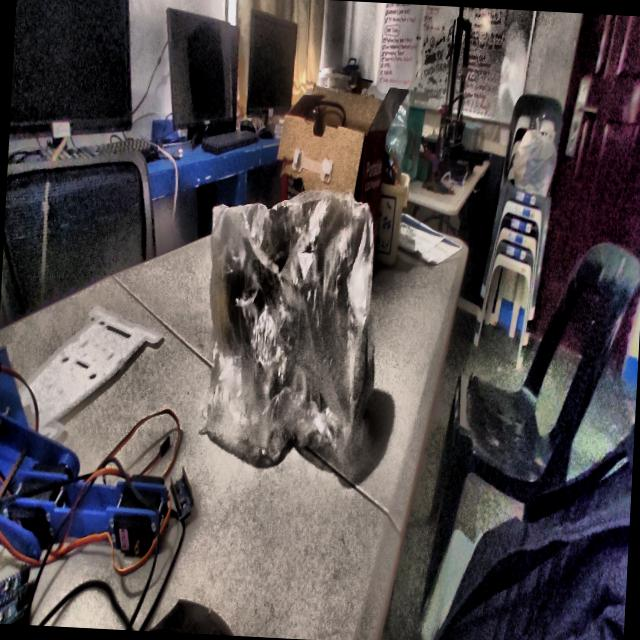plastic bag: (205, 191, 374, 467)
